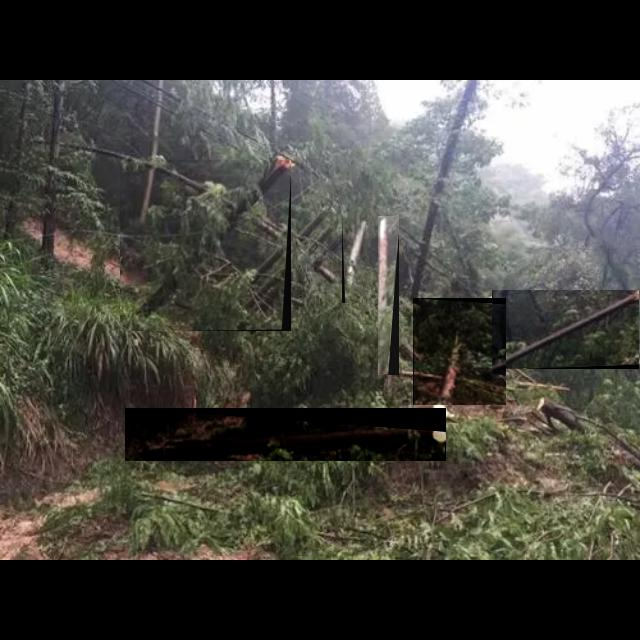Fallen Tree: (120, 160, 292, 332), (125, 408, 447, 462), (492, 290, 640, 370), (413, 298, 507, 406), (378, 216, 400, 376), (342, 218, 364, 304)
